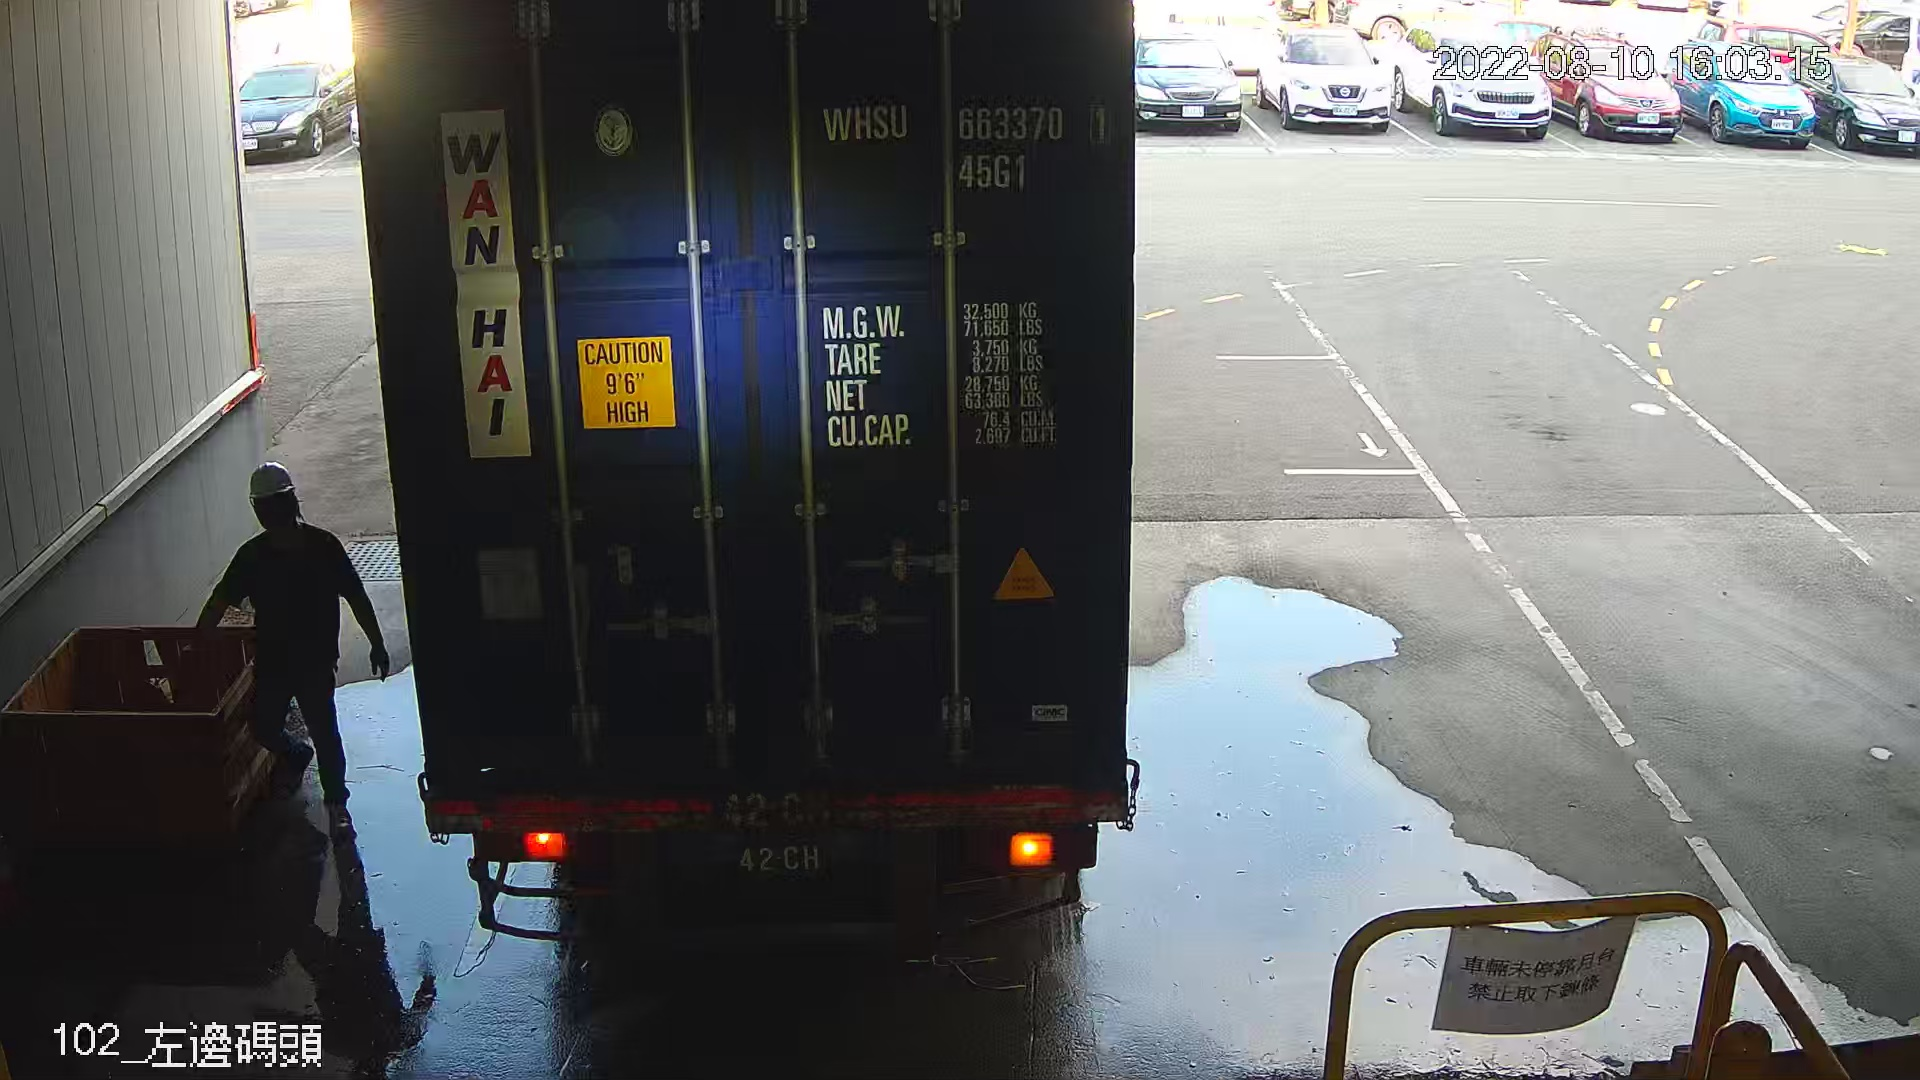container: (808, 88, 1122, 199)
